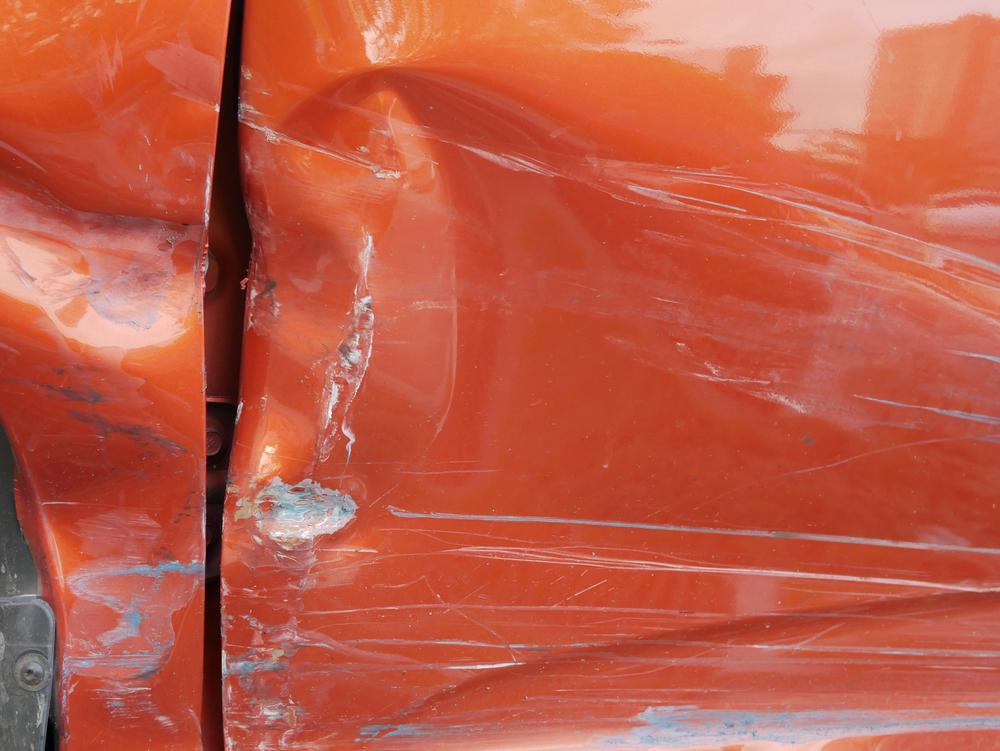dent: (240, 69, 608, 558), (0, 125, 205, 361), (25, 437, 202, 680)
scratch: (221, 489, 1000, 751), (570, 148, 1000, 489), (57, 666, 193, 740), (21, 355, 134, 442)
